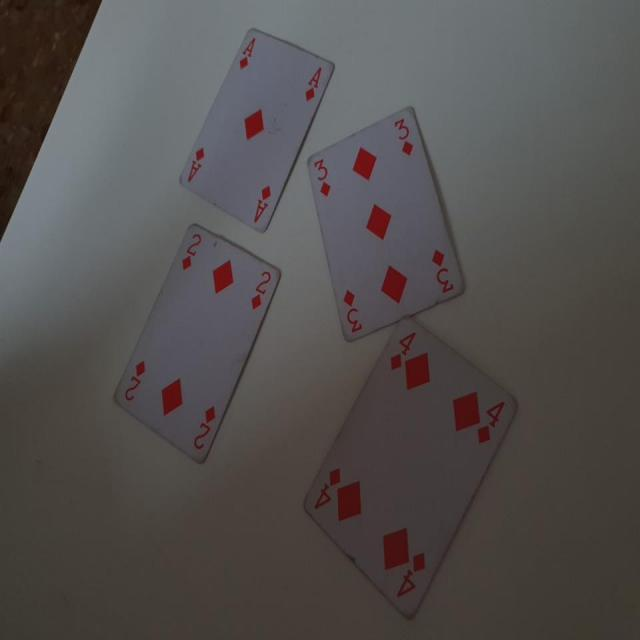2 of diamonds: (110, 222, 284, 475)
3 of diamonds: (306, 108, 468, 346)
4 of diamonds: (298, 317, 524, 627)
ace of diamonds: (170, 19, 340, 241)
